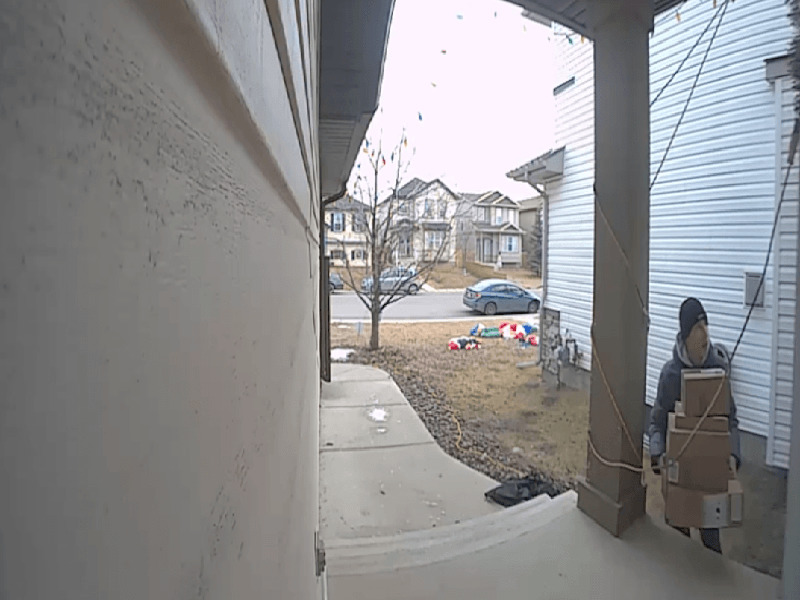package: (660, 479, 753, 534), (674, 363, 736, 420), (661, 425, 739, 466)
